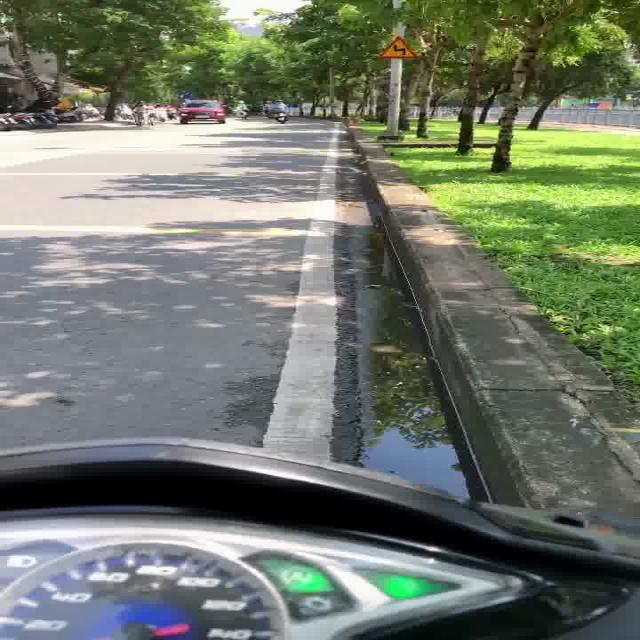Bien bao nhieu cho ngoat nguy hiem lien tiep: (372, 31, 427, 61)
